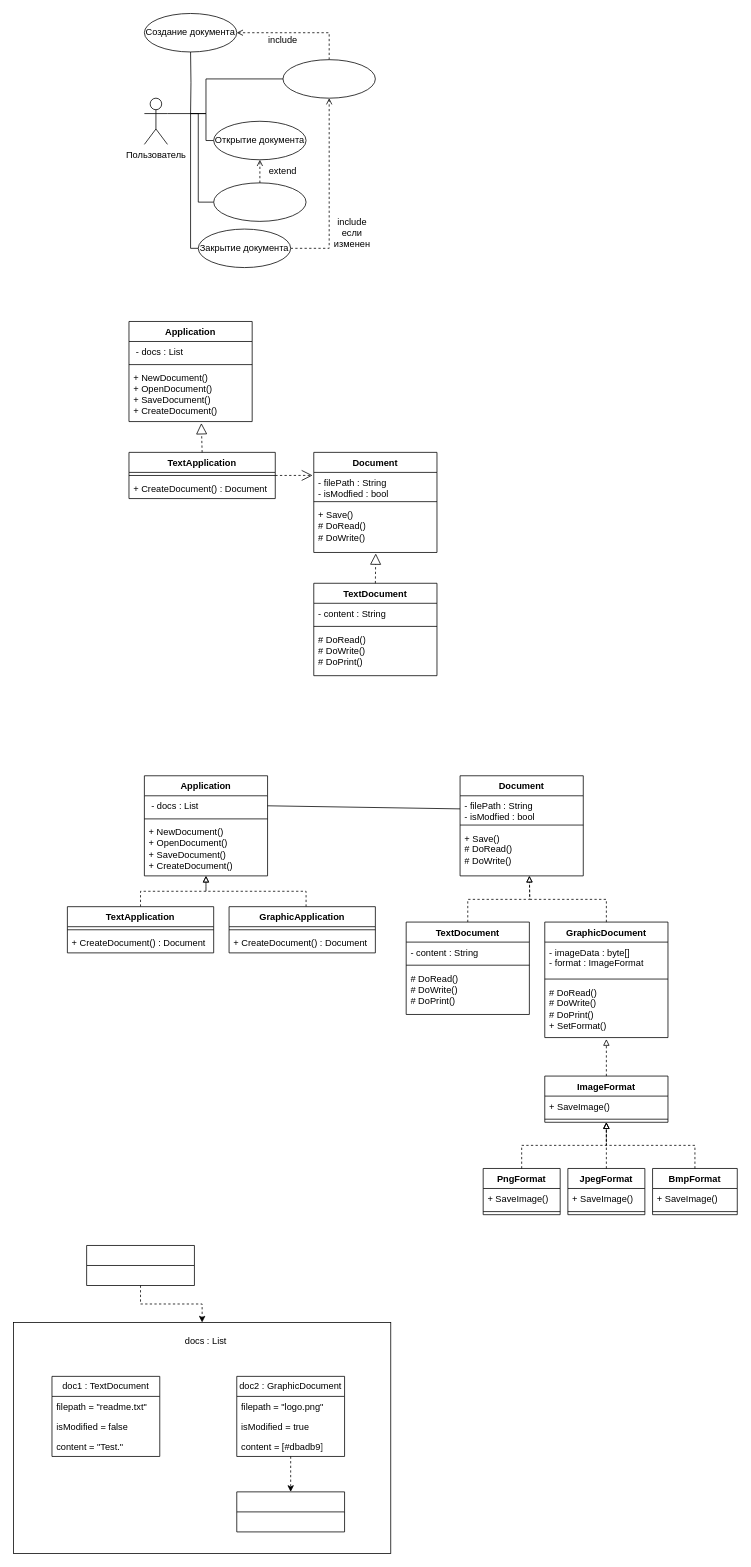
The diagram is 751 pixels wide and 1567 high, and some of its shapes have lost their labels. The shapes that lost their labels are listed below. From the top down, each one's centre as x and y in pixels, then its label:
At point (328, 78): "Сохранение документа".
At point (259, 201): "Печать документа".
At point (140, 1265): "app : TextApplication".
At point (290, 1511): "png : PngFormat".
